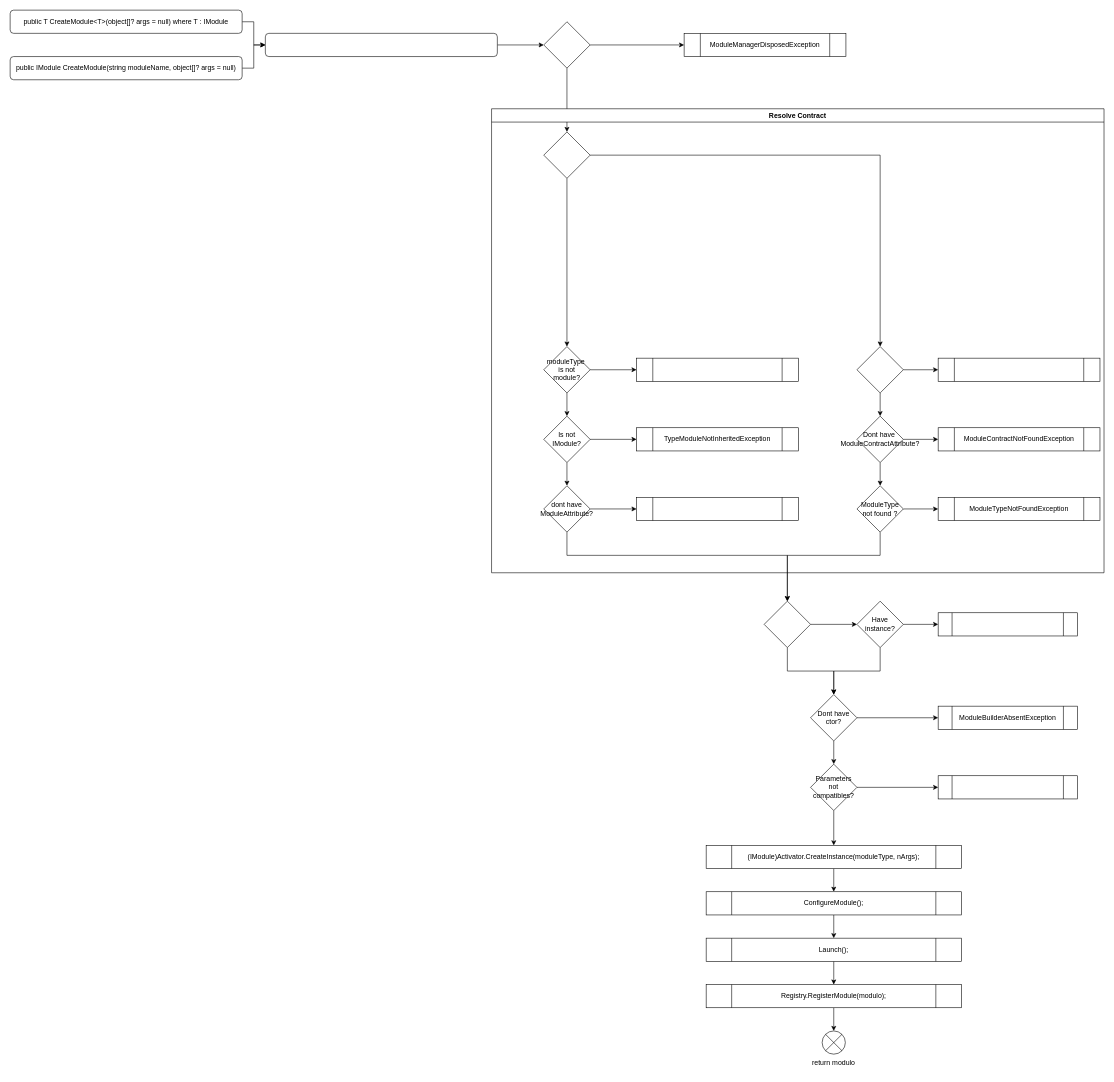
The diagram is 1114 pixels wide and 1082 high, and some of its shapes have lost their labels. The centre of each missing label's shape, as x and y in pixels:
"ArgumentException" belongs at pixel 1007 787.
"ArgumentNullException(moduleType)" belongs at pixel 1019 369.
"Disposed?" belongs at pixel 566 44.
"Is it Single instance?" belongs at pixel 787 624.
"ModuleSingleInstanceException" belongs at pixel 1007 624.
"moduleType is contract?" belongs at pixel 566 154.
"moduleType is null?" belongs at pixel 879 369.
"ModuleTypeInvalidException" belongs at pixel 717 369.
"public IModule CreateModule(Type moduleType, object[]? args = null)" belongs at pixel 381 45.
"TypeModuleUnmarkedException" belongs at pixel 717 509.
